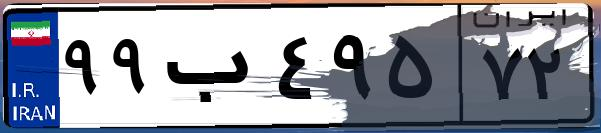2: (525, 38, 570, 115)
4: (270, 28, 330, 110)
5: (385, 28, 445, 110)
7: (475, 38, 525, 113)
9: (330, 28, 385, 110), (57, 26, 110, 100), (110, 28, 158, 98)
ب: (158, 20, 270, 120)
